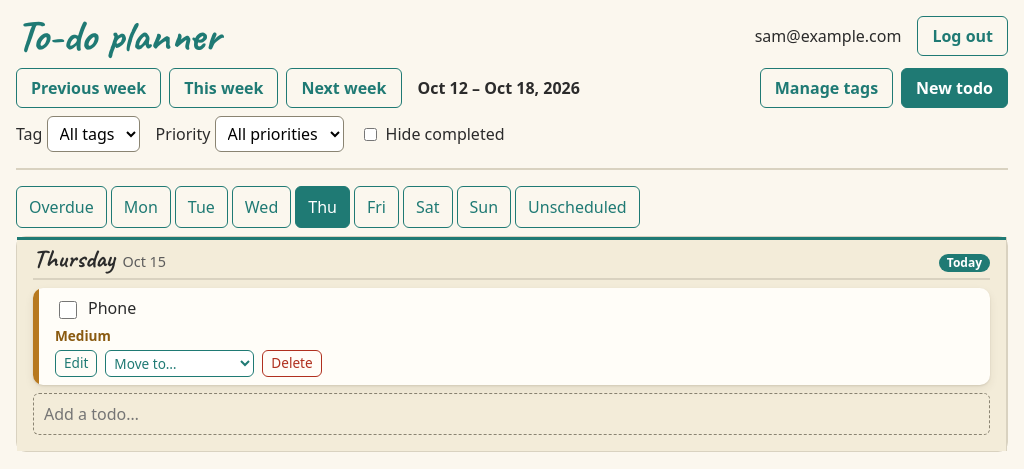
Test case: narrow screens › keeps Move to working on narrow screens
Expected: the text "sam@example.com" is shown, [755,24,901,48]
Expected: the text "Phone" is shown, [88,296,136,320]
Select "Friday Oct 16" in the dropdown named "Move to: Phone" at coordinates (180, 363), box [105,350,254,377]
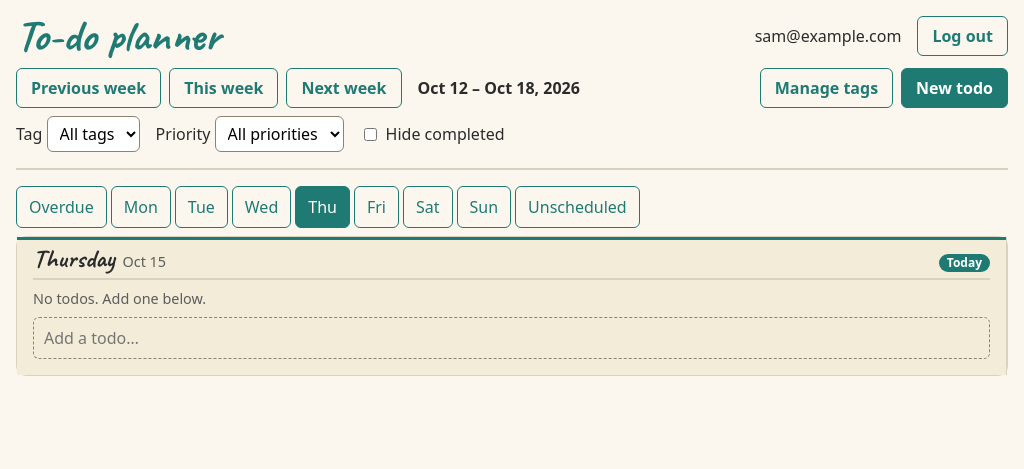
Now the text "Phone" is gone
Click the tab "Fri" at coordinates (376, 207), box [354,186,399,228]
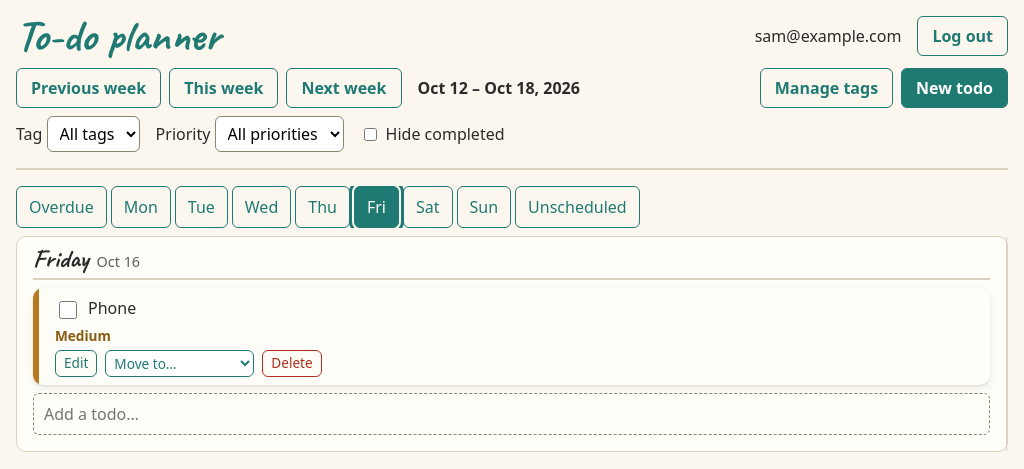
Now the text "Phone" is shown, box [88,296,136,320]
